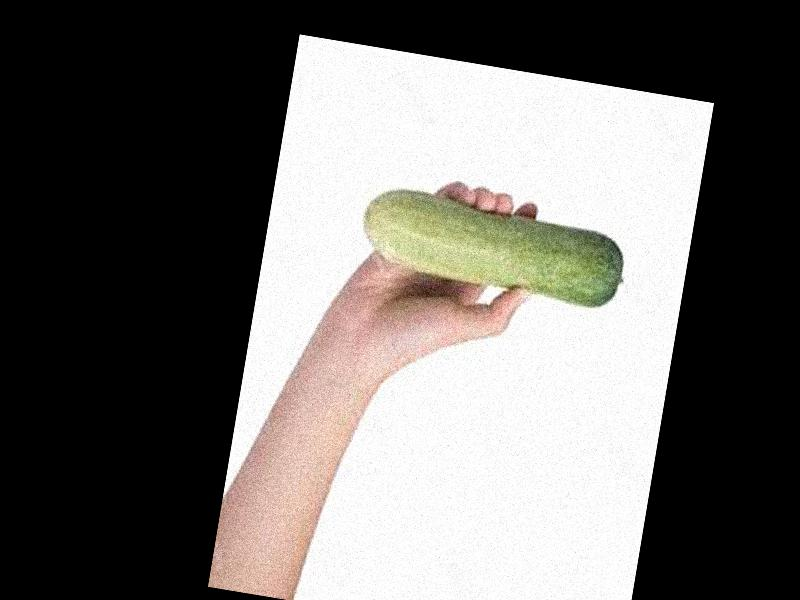Cucumber: (353, 186, 632, 317)
